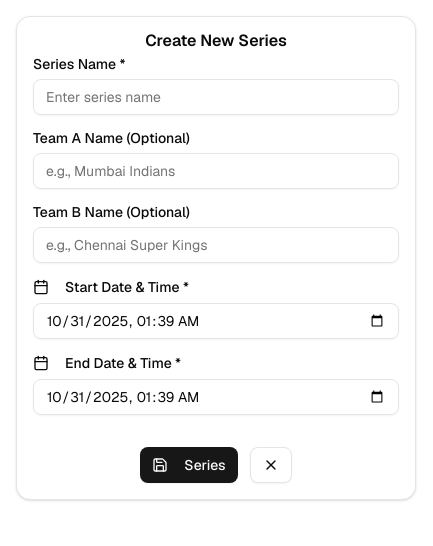
Test: SeriesForm › should validate required fields
Click the button "Series".
click(189, 465)  # box top-left (140, 447), bottom-right (238, 483)
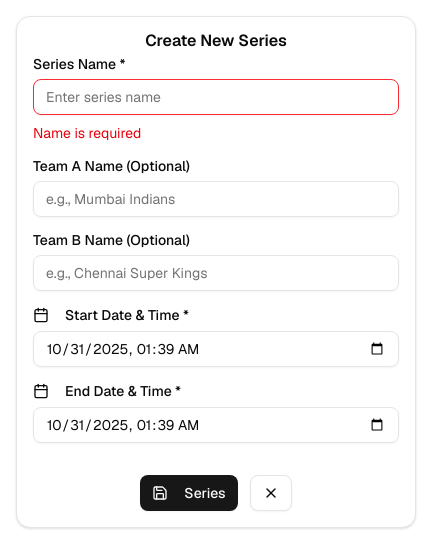
Check: the text "Name is required" is shown, box top-left (33, 124), bottom-right (141, 142)
